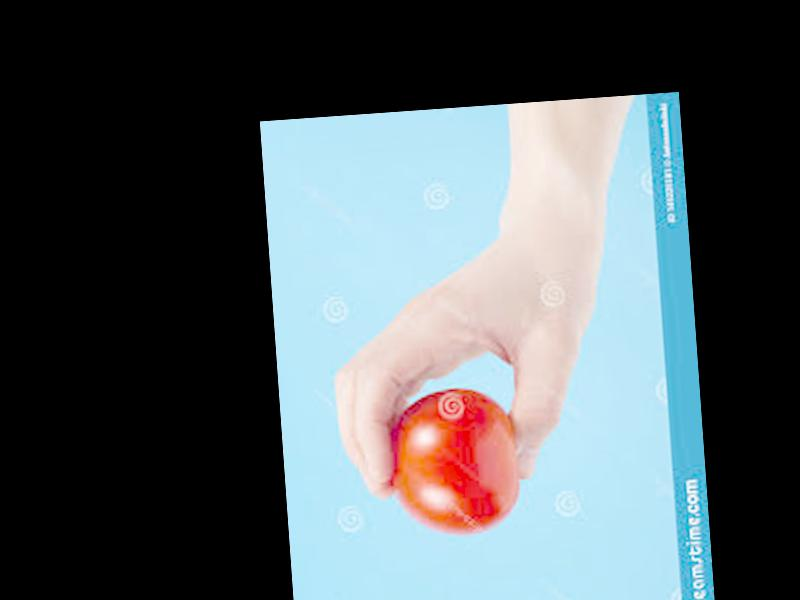Tomato: (383, 386, 522, 539)
